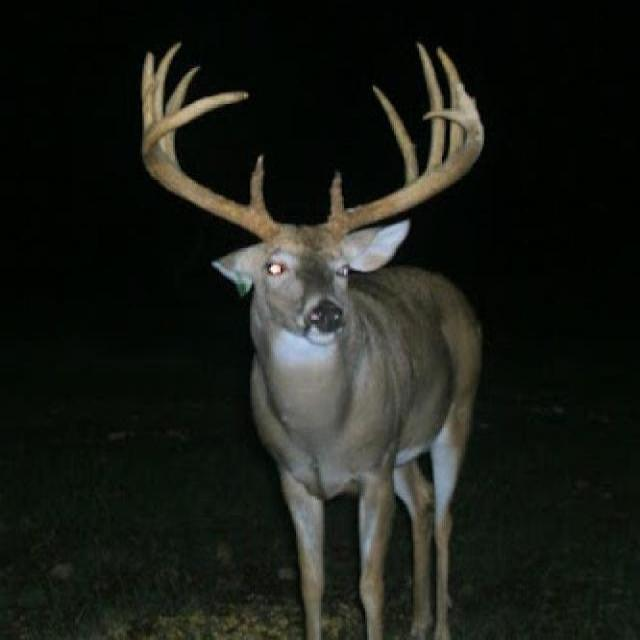deer: (133, 41, 489, 640)
